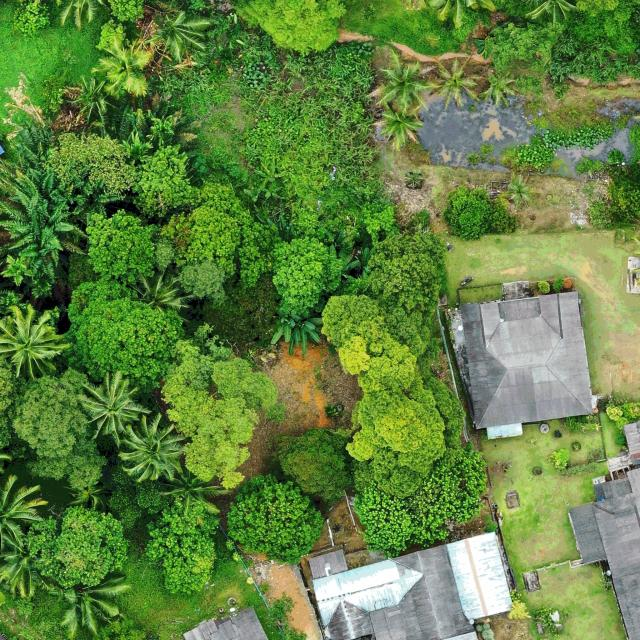0: (0, 172, 88, 286), (75, 370, 152, 447), (0, 303, 73, 380), (116, 414, 186, 484), (60, 573, 131, 637), (158, 470, 235, 520), (0, 473, 46, 553), (147, 9, 213, 64), (374, 52, 434, 112), (62, 72, 121, 122), (430, 61, 481, 110), (379, 103, 424, 151)
banana_tree2: (270, 305, 327, 357)
tree: (160, 333, 278, 489), (350, 442, 487, 557), (348, 367, 464, 498), (62, 275, 185, 391), (159, 181, 278, 298), (354, 226, 448, 361), (12, 366, 108, 488), (316, 295, 416, 392), (226, 472, 326, 566), (21, 505, 127, 589), (143, 496, 220, 597), (236, 0, 346, 57), (45, 132, 137, 196), (278, 427, 352, 503), (128, 145, 206, 217), (270, 234, 344, 306), (85, 207, 158, 279), (443, 184, 519, 239)
